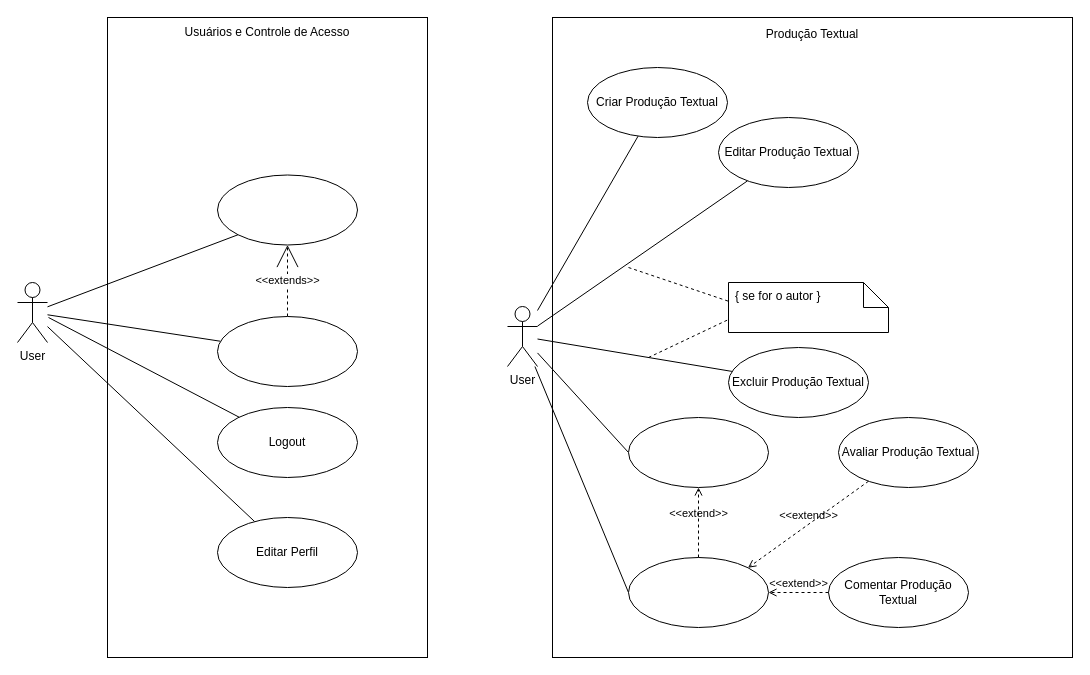
Some shapes in this 1090 by 675 pixel diagram are drawn without their labels. Here are the shapes that lost their labels. From the top down, the centre of each, then its label:
At point 287,209: "Sign In".
At point 287,351: "Login".
At point 698,452: "Ver Produções Textuais".
At point 698,592: "Ver Produção Textual".
